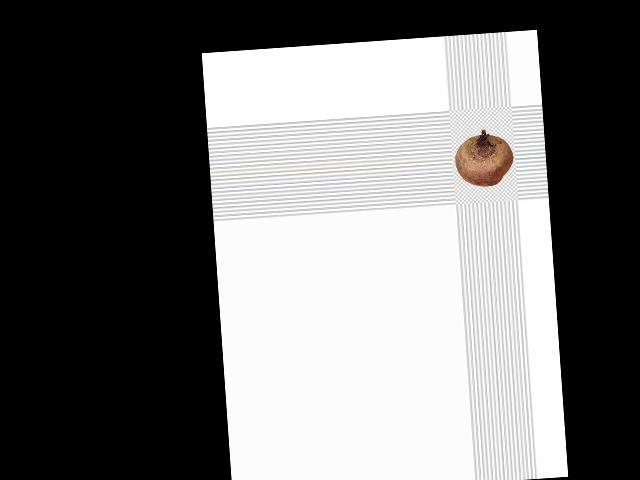beet: (453, 127, 515, 188)
